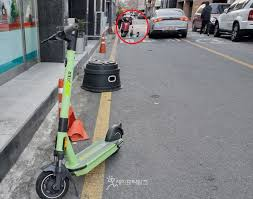kick_board: (35, 24, 124, 197)
kick_body: (77, 144, 117, 167)
kick_handler: (43, 23, 77, 41)
kick_neck: (58, 48, 75, 146)
kick_wheel: (36, 164, 69, 196), (107, 124, 123, 148)
